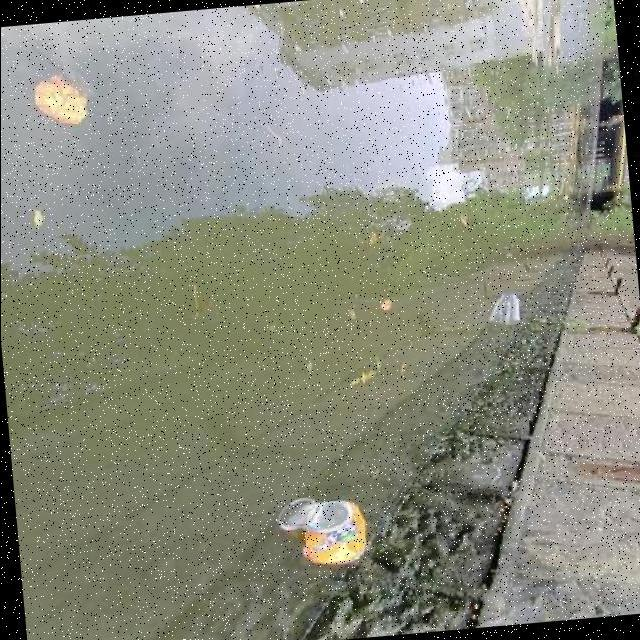Can: (276, 498, 367, 568)
